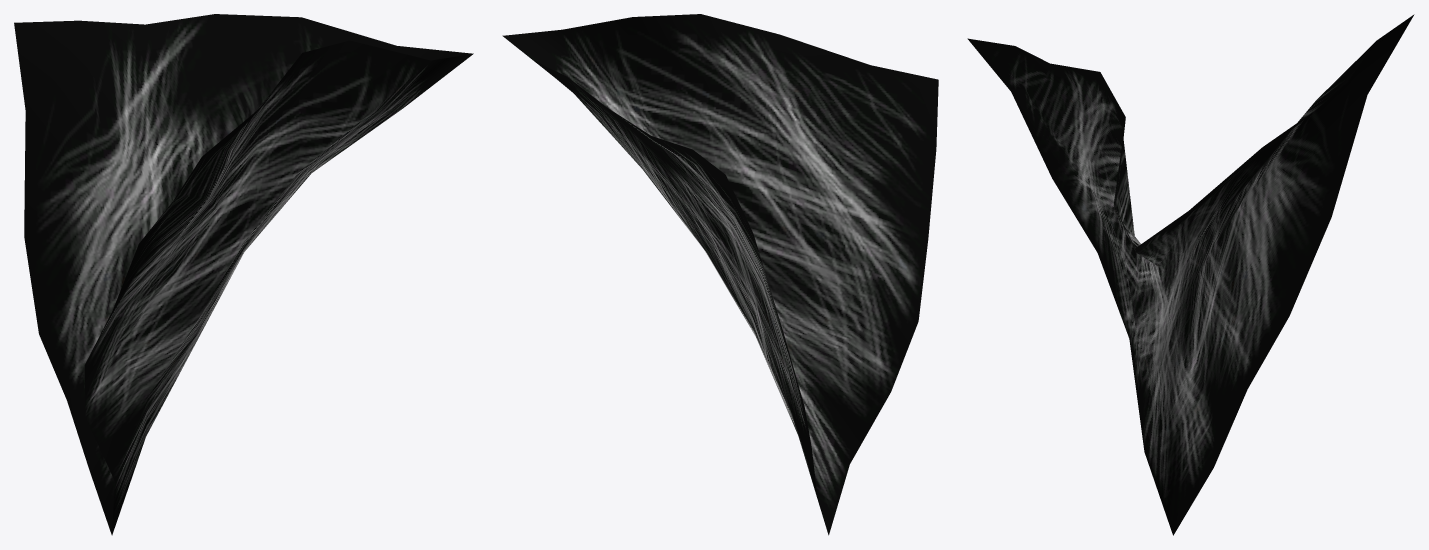
Rendered from SWORDLIGHT20_PS-AREA01_CORNERWEB25.fbx.
The picture shows the model from 3 angles, left to right: view 1: azimuth 30°, elevation 25°; view 2: azimuth 150°, elevation 25°; view 3: azimuth 270°, elevation 25°; orthographic projection. The views are drawn at different scales.
Visible parts, largest first — view 1: SWORDLIGHT20_PS-AREA01_CORNERWEB25; view 2: SWORDLIGHT20_PS-AREA01_CORNERWEB25; view 3: SWORDLIGHT20_PS-AREA01_CORNERWEB25.
Boxes of the visible parts, x1,y1,x2,y2 form: SWORDLIGHT20_PS-AREA01_CORNERWEB25: (14,14,473,535); SWORDLIGHT20_PS-AREA01_CORNERWEB25: (502,14,938,535); SWORDLIGHT20_PS-AREA01_CORNERWEB25: (967,14,1414,535).
Size of the model in its own units: 49594 by 54554 by 39719.
Materials: 1 (1 with a texture image).
